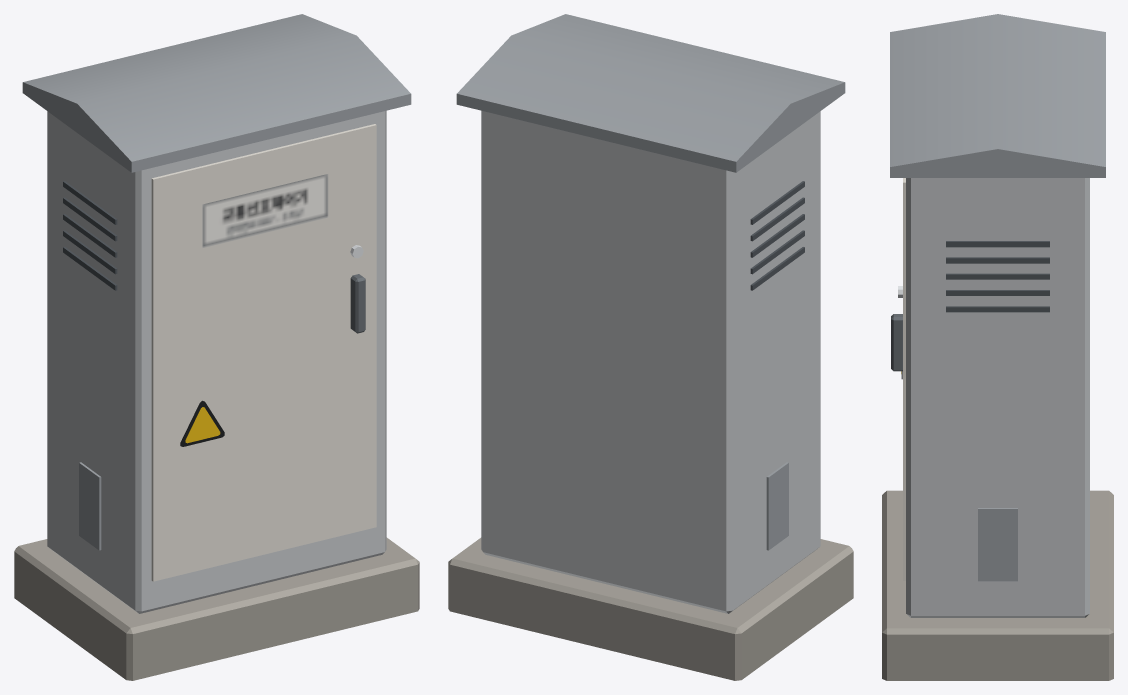
Rendered from SC_Str_Traffic_Controller.gltf.
The picture shows the model from 3 angles, left to right: view 1: azimuth 30°, elevation 25°; view 2: azimuth 150°, elevation 25°; view 3: azimuth 270°, elevation 25°; orthographic projection.
Visible parts, largest first — view 1: SC_Str_Traffic_Controller; view 2: SC_Str_Traffic_Controller; view 3: SC_Str_Traffic_Controller.
Boxes of the visible parts, <box> form: SC_Str_Traffic_Controller: <box>14,14,419,680</box>; SC_Str_Traffic_Controller: <box>448,14,853,680</box>; SC_Str_Traffic_Controller: <box>882,14,1113,680</box>.
Size of the model in its own units: 0.84 by 1.46 by 0.58.
Materials: 2 (2 with a texture image).
